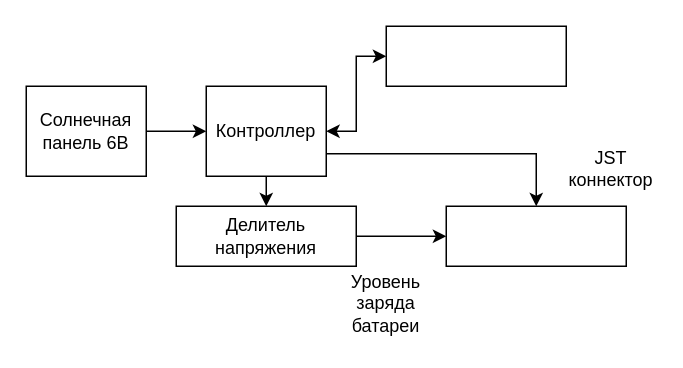
The diagram is 683 pixels wide and 368 high, and some of its shapes have lost their labels. Here are the shapes that lost their labels. From the top down, the box of each, then its label:
(385, 25, 566, 86): Батарея 3.7В
(445, 205, 626, 266): ESP32
